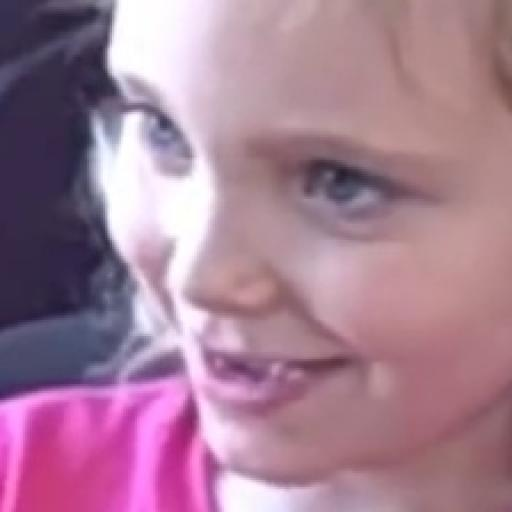Autism: (60, 4, 512, 494)
